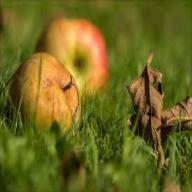apple: (39, 15, 112, 98), (10, 58, 82, 142)
